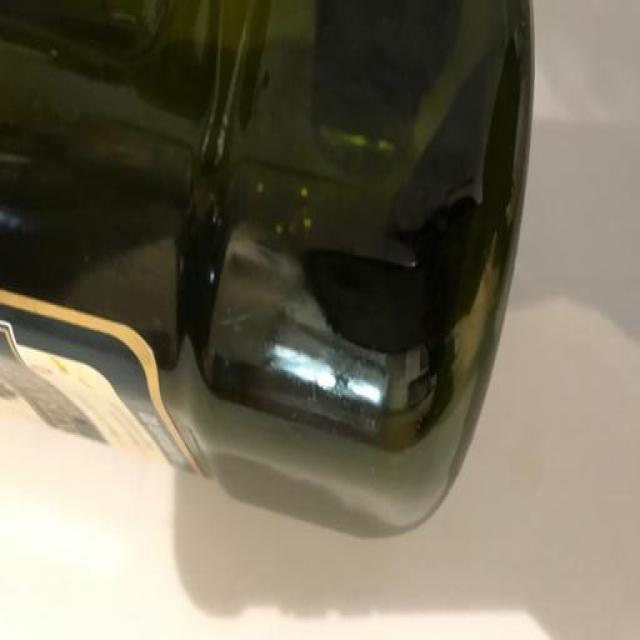plastic_bottle: (2, 1, 605, 548)
